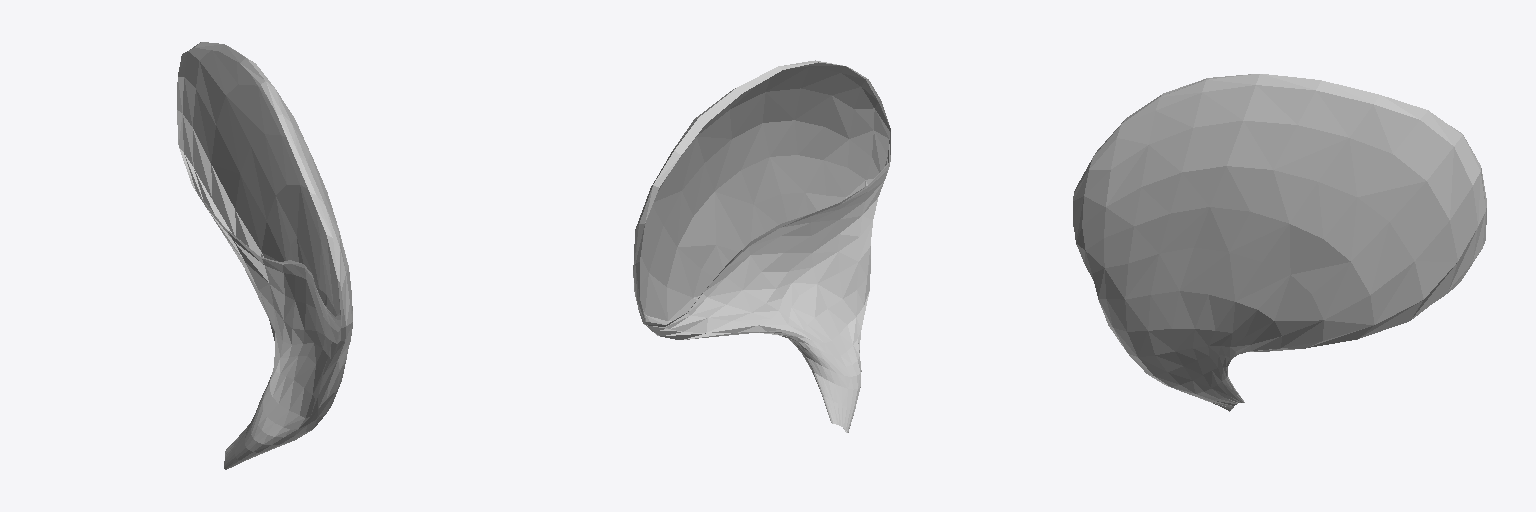
The model's file is Temporal_Muscle_Left.obj.
3 renders of one model, left to right at view 1: azimuth 30°, elevation 25°; view 2: azimuth 150°, elevation 25°; view 3: azimuth 270°, elevation 25°, orthographic.
Parts seen in each view (by area): view 1: Temporal_Muscle_Left1_Mesh group1; view 2: Temporal_Muscle_Left1_Mesh group1; view 3: Temporal_Muscle_Left1_Mesh group1.
Part boxes in pixels (bbox=[...]): Temporal_Muscle_Left1_Mesh group1: bbox=[177, 42, 352, 469]; Temporal_Muscle_Left1_Mesh group1: bbox=[633, 60, 890, 432]; Temporal_Muscle_Left1_Mesh group1: bbox=[1073, 74, 1486, 411].
Size of the model in its own units: 0.4652 by 1.45 by 1.49.